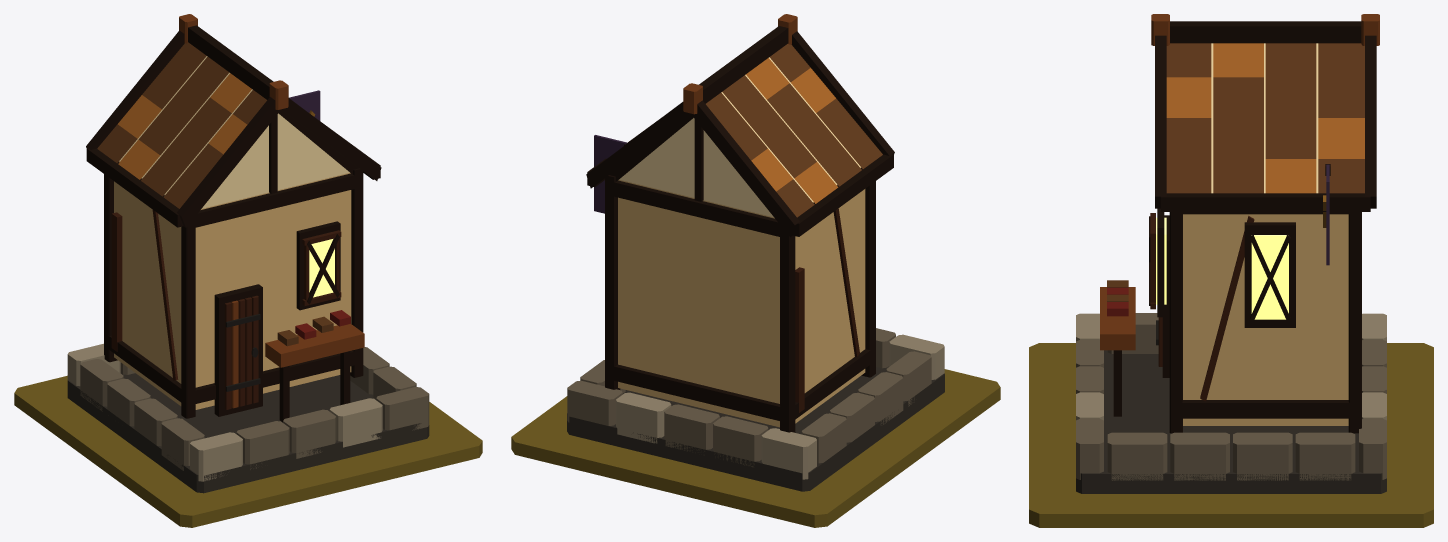
The model's file is scriptorium_t3.glb.
3 renders of one model, left to right at view 1: azimuth 30°, elevation 25°; view 2: azimuth 150°, elevation 25°; view 3: azimuth 270°, elevation 25°, orthographic. The views are drawn at different scales.
Parts seen in each view (by area): view 1: MMR | scriptorium | T03 Architecture.001, MMR | scriptorium | Tier 03 Ground.001; view 2: MMR | scriptorium | T03 Architecture.001, MMR | scriptorium | Tier 03 Ground.001, MMR | scriptorium | T03 Banner Flag 1.001; view 3: MMR | scriptorium | T03 Architecture.001, MMR | scriptorium | Tier 03 Ground.001.
Part boxes in pixels (x1,y1,x2,y2): MMR | scriptorium | T03 Architecture.001: (67,14,429,493); MMR | scriptorium | Tier 03 Ground.001: (14,375,482,527); MMR | scriptorium | T03 Architecture.001: (567,14,944,491); MMR | scriptorium | Tier 03 Ground.001: (511,369,1000,527); MMR | scriptorium | T03 Banner Flag 1.001: (594,135,626,213); MMR | scriptorium | T03 Architecture.001: (1076,14,1386,493); MMR | scriptorium | Tier 03 Ground.001: (1029,343,1433,527).
Size of the model in its own units: 1.3 by 1.51 by 1.3.
2 materials, 1 textured.
